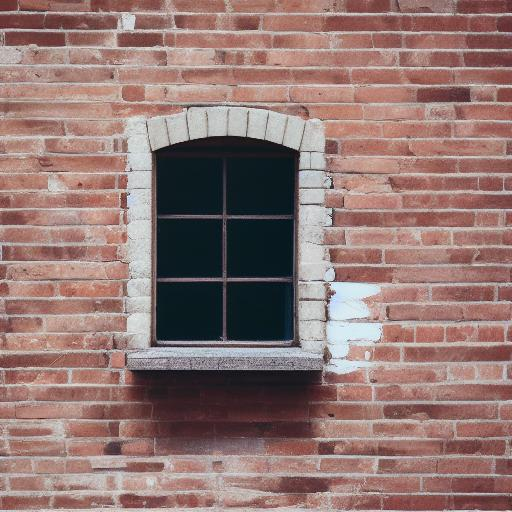Window: (126, 105, 331, 383)
